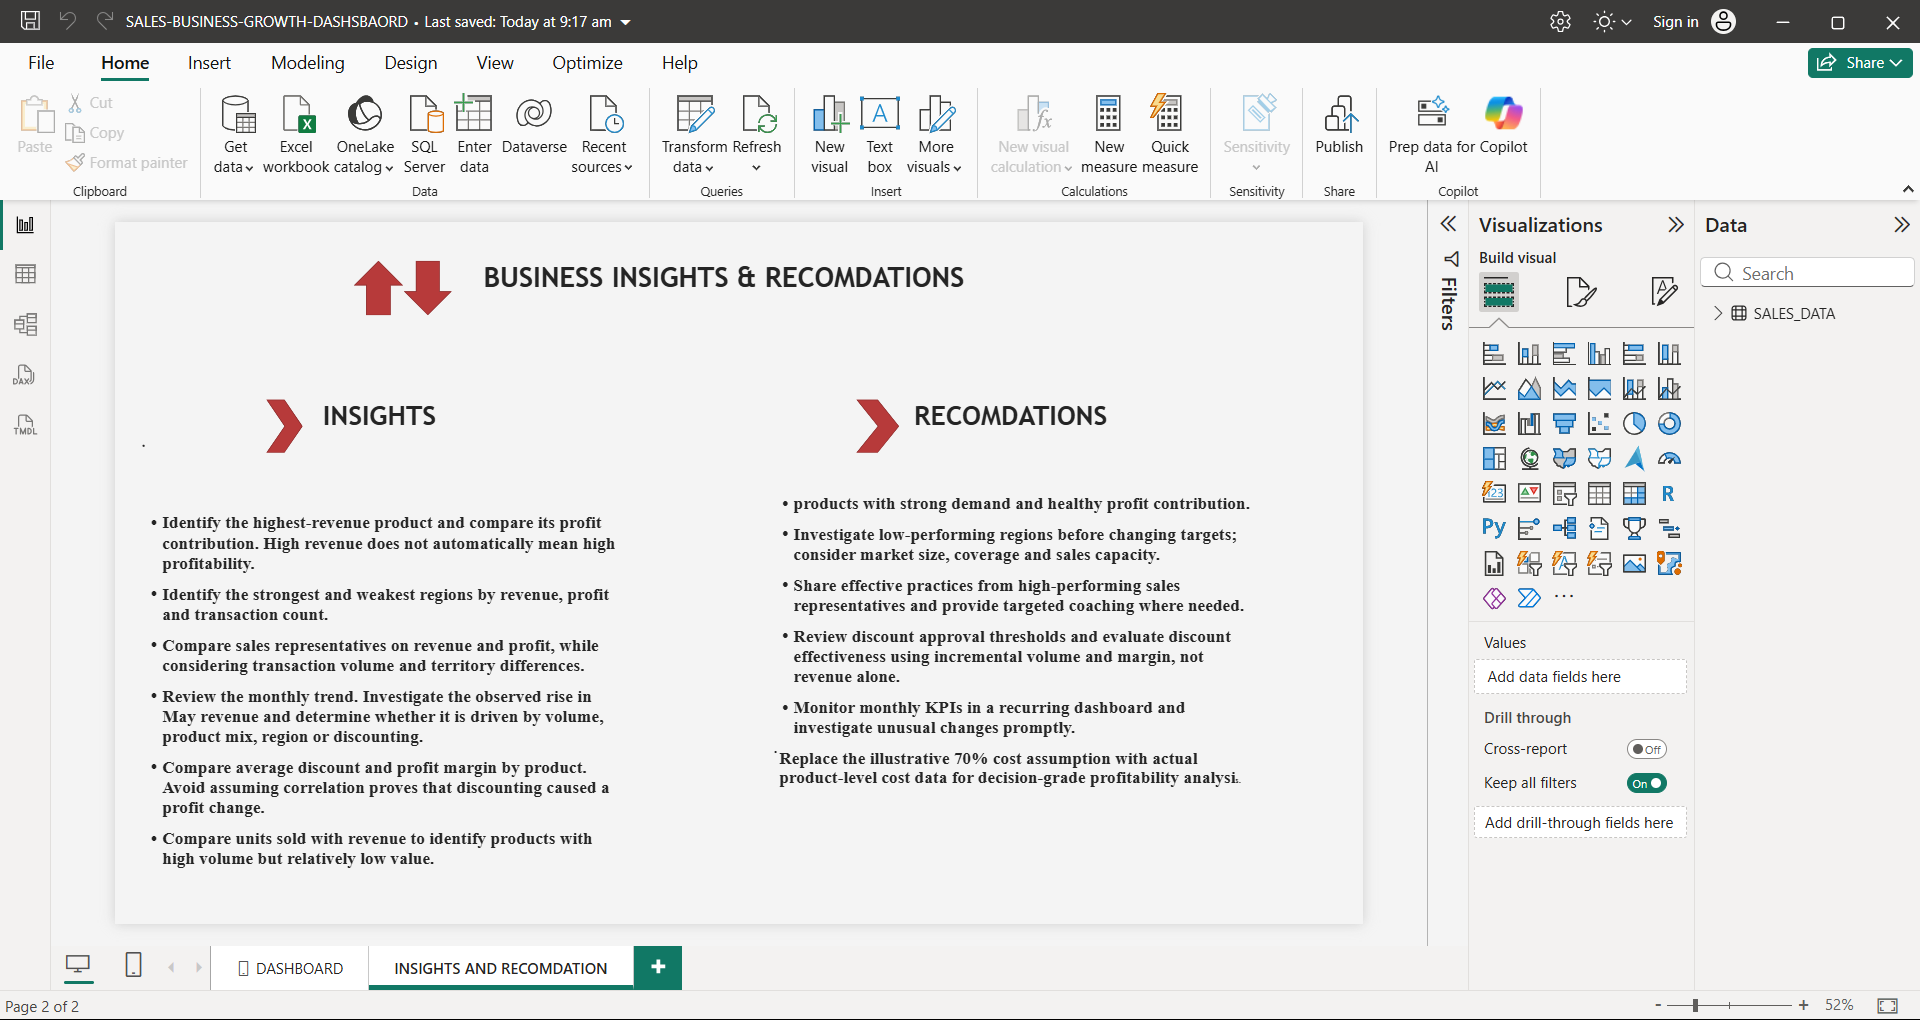

What the dashboard file says about the page in this screenshot:
{"tool":"powerbi","page":{"name":"INSIGHTS AND RECOMDATION","canvas":[1920,1080],"ordinal":1},"visuals":[{"type":"textbox","title":"INSIGHTS","box":[32,274,748,768],"z":0},{"type":"textbox","box":[32,60,1808,106],"z":1},{"type":"shape","box":[368,60,76,84],"z":2},{"type":"shape","box":[444,60,74,84],"z":3},{"type":"shape","box":[232,274,56,82],"z":4},{"type":"textbox","title":"RECOMDATIONS","box":[1004,274,748,768],"z":5},{"type":"shape","box":[1140,274,66,82],"z":6}]}

Visuals, with their boxes on the page's 1920x1080 design canvas (x1, y1, x2, y2). These are canvas units, not pixel positions in the 1920x1020 screenshot, which may show the page scaled, cropped or inside an application window:
"INSIGHTS" textbox: [32,274,780,1042]
textbox: [32,60,1840,166]
shape: [368,60,444,144]
shape: [444,60,518,144]
shape: [232,274,288,356]
"RECOMDATIONS" textbox: [1004,274,1752,1042]
shape: [1140,274,1206,356]
